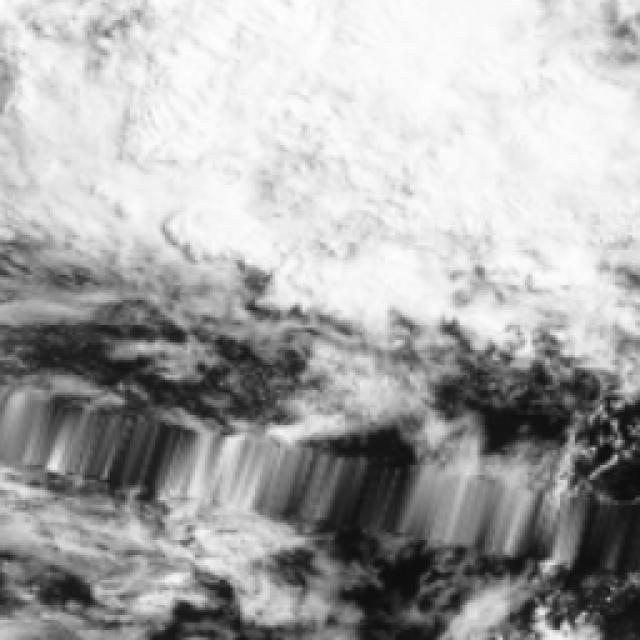CB: (188, 2, 542, 137)
